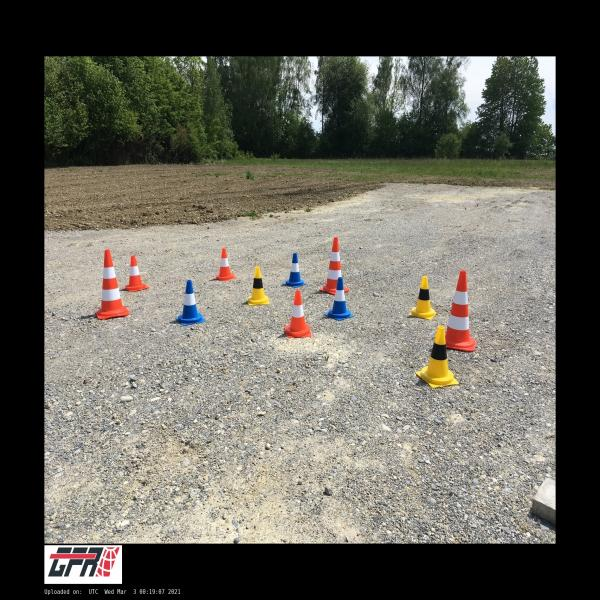blue_cone: (175, 280, 206, 326), (324, 277, 354, 321), (282, 253, 306, 287)
large_orange_cone: (445, 270, 476, 351), (96, 250, 130, 319), (319, 238, 349, 294)
orange_cone: (285, 290, 311, 338), (123, 255, 149, 292), (213, 248, 236, 281)
yellow_cone: (415, 326, 459, 388), (409, 276, 436, 320), (246, 267, 270, 305)
